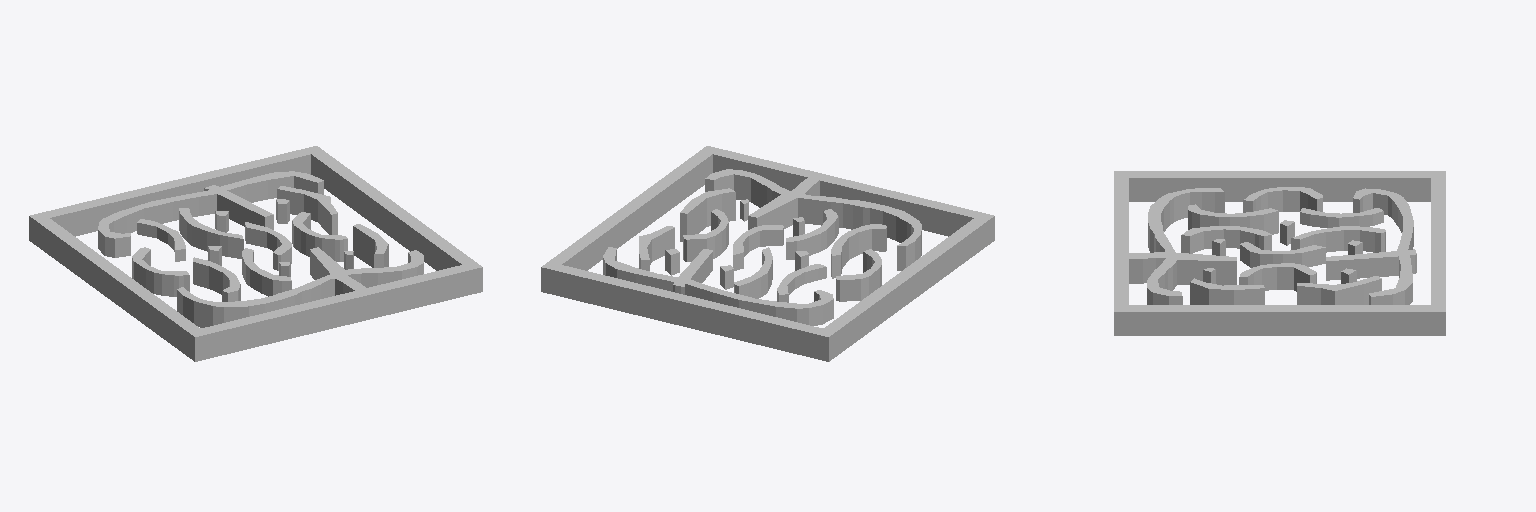
The model's file is Maze_planar_env.obj.
3 renders of one model, left to right at view 1: azimuth 30°, elevation 25°; view 2: azimuth 150°, elevation 25°; view 3: azimuth 270°, elevation 25°, orthographic.
Visible parts, largest first — view 1: instance_0-2, instance_0, instance_0-3, instance_0-6, instance_0-8, instance_0-10, instance_0-12, instance_0-13, instance_0-15, instance_0-9, instance_0-4; view 2: instance_0-2, instance_0, instance_0-15, instance_0-12, instance_0-3, instance_0-10, instance_0-13, instance_0-9, instance_0-8, instance_0-6, instance_0-4; view 3: instance_0-2, instance_0, instance_0-6, instance_0-8, instance_0-13, instance_0-3, instance_0-10, instance_0-12, instance_0-15, instance_0-9, instance_0-4.
Boxes of the visible parts, x1,y1,x2,y2 form: instance_0-2: [29, 146, 482, 361]; instance_0: [98, 171, 323, 257]; instance_0-3: [132, 247, 189, 296]; instance_0-6: [179, 208, 243, 258]; instance_0-8: [277, 186, 337, 234]; instance_0-10: [292, 212, 347, 261]; instance_0-12: [193, 257, 240, 301]; instance_0-13: [242, 248, 291, 296]; instance_0-15: [353, 224, 388, 267]; instance_0-9: [245, 222, 291, 270]; instance_0-4: [137, 219, 185, 261]; instance_0-2: [541, 146, 994, 361]; instance_0: [603, 247, 833, 325]; instance_0-15: [680, 188, 735, 241]; instance_0-12: [831, 224, 886, 278]; instance_0-3: [836, 249, 881, 301]; instance_0-10: [683, 209, 728, 261]; instance_0-13: [786, 209, 838, 259]; instance_0-9: [733, 225, 783, 270]; instance_0-8: [639, 226, 674, 270]; instance_0-6: [734, 247, 772, 298]; instance_0-4: [777, 264, 826, 302]; instance_0-2: [1114, 171, 1445, 335]; instance_0: [1326, 188, 1416, 304]; instance_0-6: [1291, 226, 1385, 252]; instance_0-8: [1297, 276, 1381, 304]; instance_0-13: [1181, 226, 1271, 253]; instance_0-3: [1243, 187, 1322, 212]; instance_0-10: [1239, 263, 1316, 291]; instance_0-12: [1188, 204, 1278, 234]; instance_0-15: [1190, 278, 1264, 304]; instance_0-9: [1240, 242, 1325, 267]; instance_0-4: [1300, 208, 1383, 227].
Bounding box in the file's own units: 110 × 10.63 × 110.